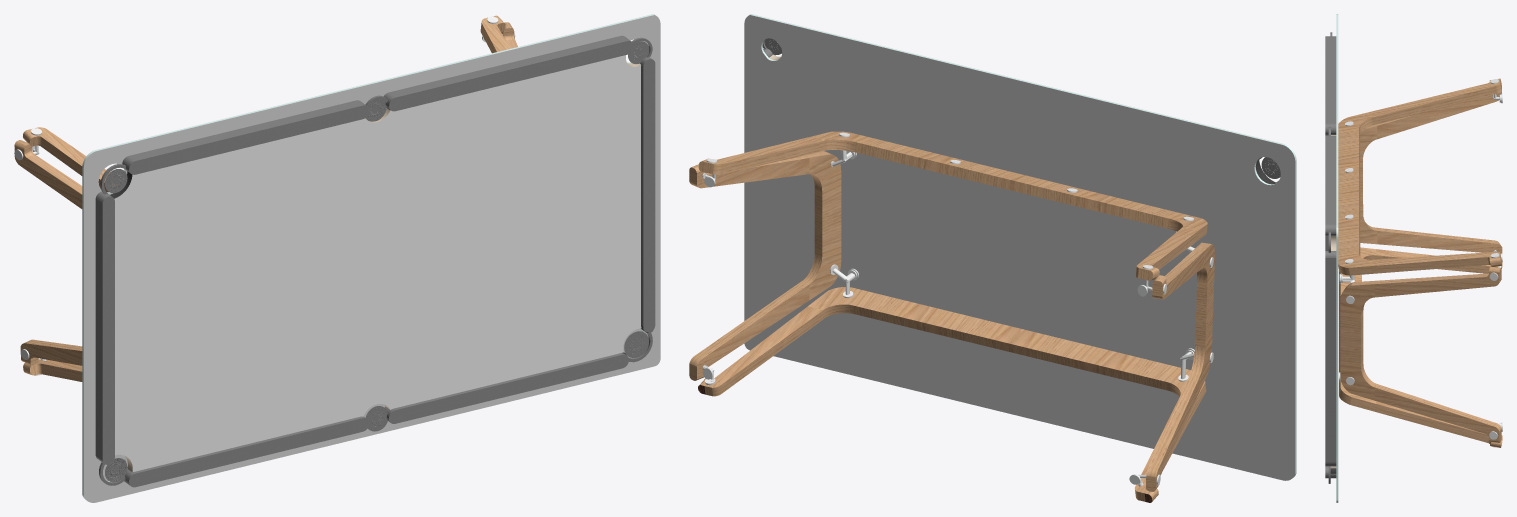
The model's file is mesa-bretda-sinuca-citrino.glb.
The picture shows the model from 3 angles, left to right: view 1: azimuth 30°, elevation 25°; view 2: azimuth 150°, elevation 25°; view 3: azimuth 270°, elevation 25°; orthographic projection. The views are drawn at different scales.
Visible parts, largest first — view 1: ID608, ID541, ID114, ID10, ID1628, ID1430, ID1639, ID1113, ID1441; view 2: ID74, ID1078, ID1441, ID1113, ID1430, ID1337, ID1321, ID1639, ID1628, ID10; view 3: ID541, ID1441, ID1430, ID1337, ID1321, ID1639, ID1628, ID1078, ID10, ID1113.
Part boxes in pixels (box(x1,y1,x2,y2)): ID608: box(114, 55, 641, 472); ID541: box(95, 35, 655, 487); ID114: box(83, 15, 660, 502); ID10: box(82, 14, 655, 499); ID1628: box(14, 140, 82, 208); ID1430: box(23, 127, 109, 192); ID1639: box(20, 339, 82, 365); ID1113: box(23, 359, 82, 381); ID1441: box(480, 15, 510, 53); ID74: box(744, 15, 1295, 480); ID1078: box(699, 287, 1022, 396); ID1441: box(698, 131, 1024, 190); ID1113: box(1010, 329, 1206, 501); ID1430: box(1012, 175, 1207, 280); ID1337: box(689, 216, 841, 380); ID1321: box(689, 151, 841, 223); ID1639: box(1145, 304, 1213, 491); ID1628: box(1152, 242, 1214, 314); ID10: box(750, 14, 1296, 477); ID541: box(1325, 36, 1336, 478); ID1441: box(1338, 191, 1501, 275); ID1430: box(1338, 78, 1501, 196); ID1337: box(1340, 338, 1501, 442); ID1321: box(1340, 266, 1501, 340); ID1639: box(1360, 186, 1502, 253); ID1628: box(1360, 91, 1501, 186); ID1078: box(1339, 322, 1502, 447); ID10: box(1336, 14, 1338, 502); ID1113: box(1339, 247, 1502, 325).
Bounding box in the file's own units: 94.21 × 54.84 × 32.09.
Materials: 10 (6 with a texture image).
